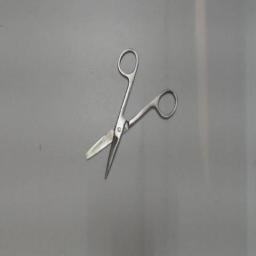Dressing Scissors: (82, 44, 182, 186)
